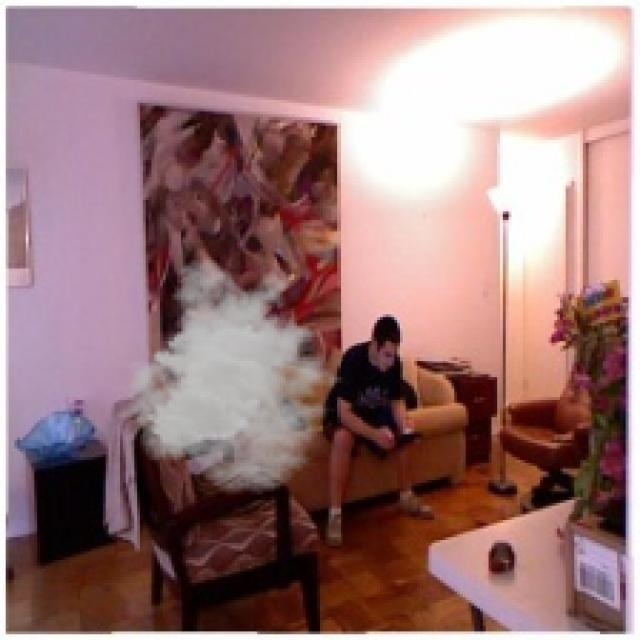smoke: (120, 257, 354, 494)
